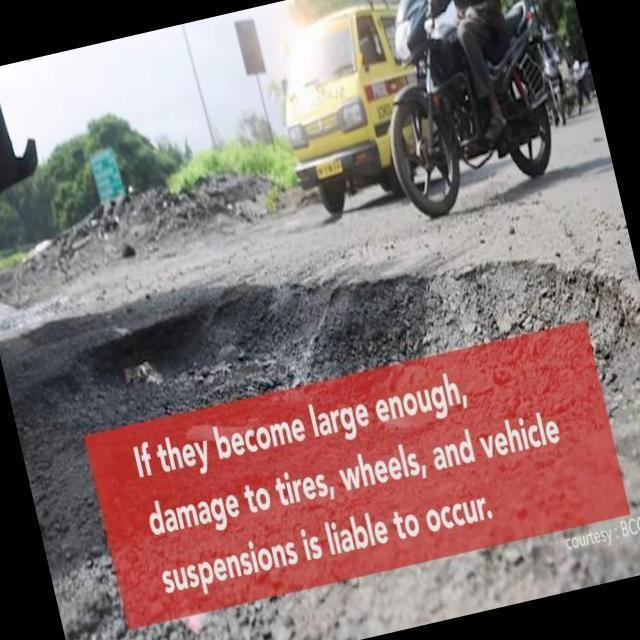Pothole: (28, 262, 624, 544)
